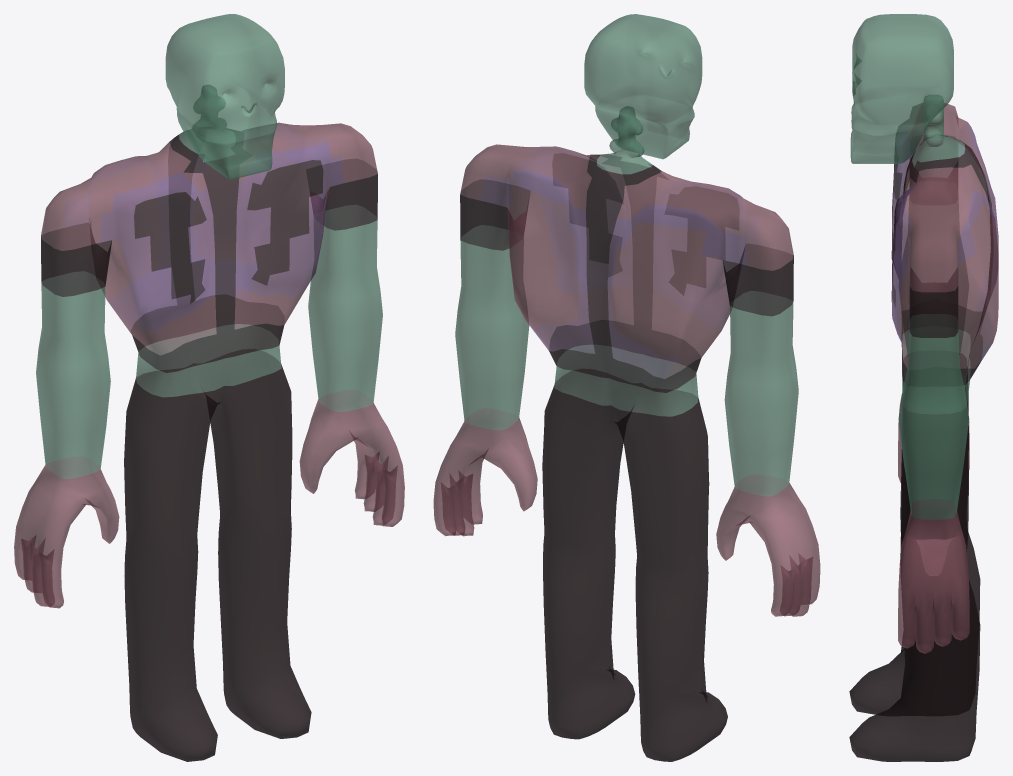
The model's file is maybe fixed Mr mariachi LIAN.fbx.
The picture shows the model from 3 angles, left to right: view 1: azimuth 30°, elevation 25°; view 2: azimuth 150°, elevation 25°; view 3: azimuth 270°, elevation 25°; orthographic projection.
Parts seen in each view (by area): view 1: pCube25; view 2: pCube25; view 3: pCube25.
Boxes of the visible parts, x1=… form: pCube25: x1=14, y1=14, x2=404, y2=761; pCube25: x1=433, y1=14, x2=820, y2=761; pCube25: x1=849, y1=14, x2=998, y2=761.
Bounding box in the file's own units: 34.28 × 64.02 × 12.25.
